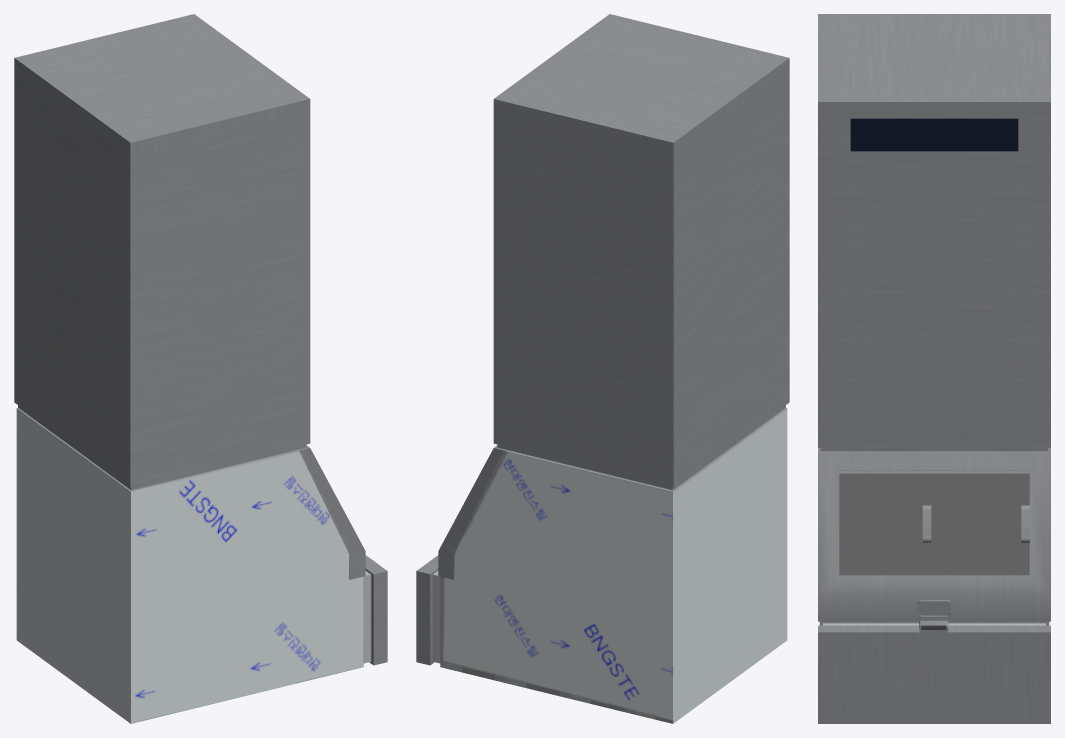
Rendered from LC_3091_Ice_machine_LOD2.fbx.
3 views of the same model, side by side, from view 1: azimuth 30°, elevation 25°; view 2: azimuth 150°, elevation 25°; view 3: azimuth 270°, elevation 25° (orthographic).
Visible parts, largest first — view 1: LC_3091_IM_L2; view 2: LC_3091_IM_L2; view 3: LC_3091_IM_L2, polySurface6, polySurface5.
Part boxes in pixels (box(x1,y1,x2,y2)): LC_3091_IM_L2: box(14, 14, 387, 723); LC_3091_IM_L2: box(416, 14, 789, 723); LC_3091_IM_L2: box(818, 14, 1050, 723); polySurface6: box(839, 473, 934, 575); polySurface5: box(934, 473, 1029, 575).
Bounding box in the file's own units: 89.48 × 192 × 69.2.
2 materials, 2 textured.
